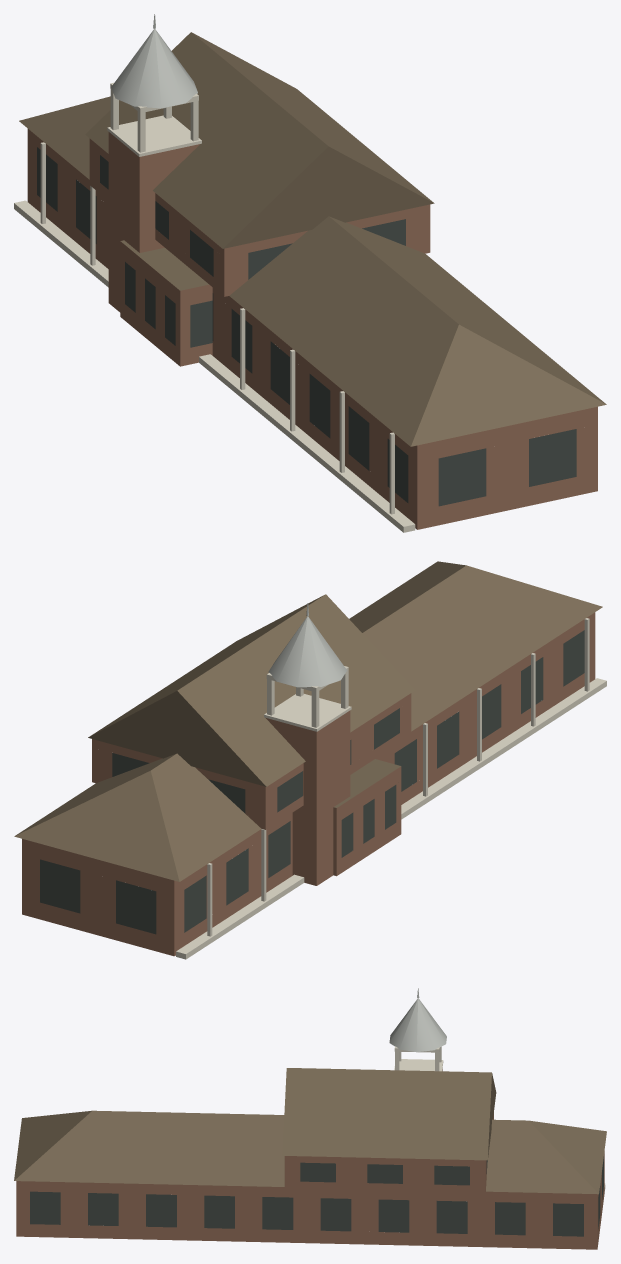
File: perris-depot-far.glb
3 renders of one model, top to bottom at view 1: azimuth 30°, elevation 25°; view 2: azimuth 150°, elevation 25°; view 3: azimuth 270°, elevation 25°, orthographic. The views are drawn at different scales.
Parts seen in each view (by area): view 1: perris-depot-0-roof, perris-depot-0-stone, perris-depot-0-glass, perris-depot-0-trim, perris-depot-0-metal; view 2: perris-depot-0-roof, perris-depot-0-stone, perris-depot-0-glass, perris-depot-0-trim, perris-depot-0-metal; view 3: perris-depot-0-roof, perris-depot-0-stone, perris-depot-0-glass, perris-depot-0-metal, perris-depot-0-trim.
Boxes of the visible parts, x1,y1,x2,y2 form: perris-depot-0-roof: (19,32,606,446); perris-depot-0-stone: (27,129,597,529); perris-depot-0-glass: (37,147,576,506); perris-depot-0-trim: (14,82,415,532); perris-depot-0-metal: (111,14,197,108); perris-depot-0-roof: (14,561,602,881); perris-depot-0-stone: (22,612,595,956); perris-depot-0-glass: (40,630,584,934); perris-depot-0-trim: (176,618,606,959); perris-depot-0-metal: (268,603,346,687); perris-depot-0-roof: (14,1068,606,1194); perris-depot-0-stone: (16,1069,604,1249); perris-depot-0-glass: (30,1156,603,1236); perris-depot-0-metal: (389,988,446,1052); perris-depot-0-trim: (394,1046,605,1190).
Bounding box in the file's own units: 12.38 × 14.8 × 39.79.
